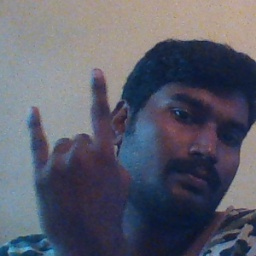V: (24, 64, 139, 250)
